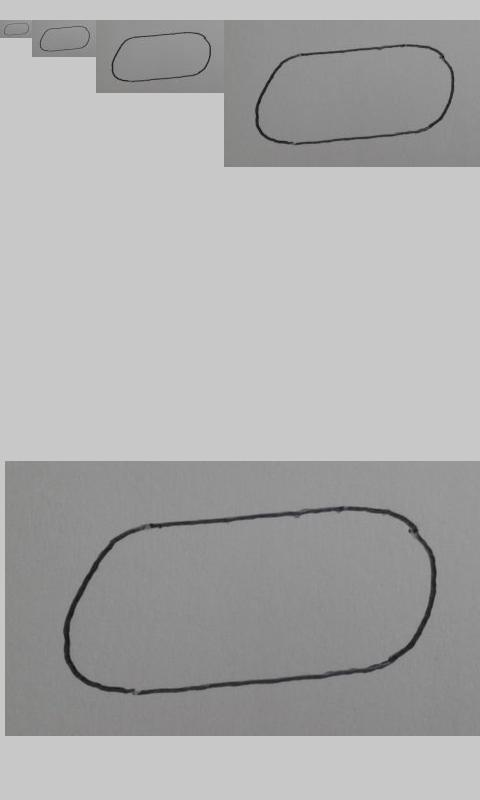chip: (63, 505, 440, 698), (254, 43, 455, 146), (111, 31, 212, 82), (39, 25, 91, 52), (3, 22, 30, 36)
